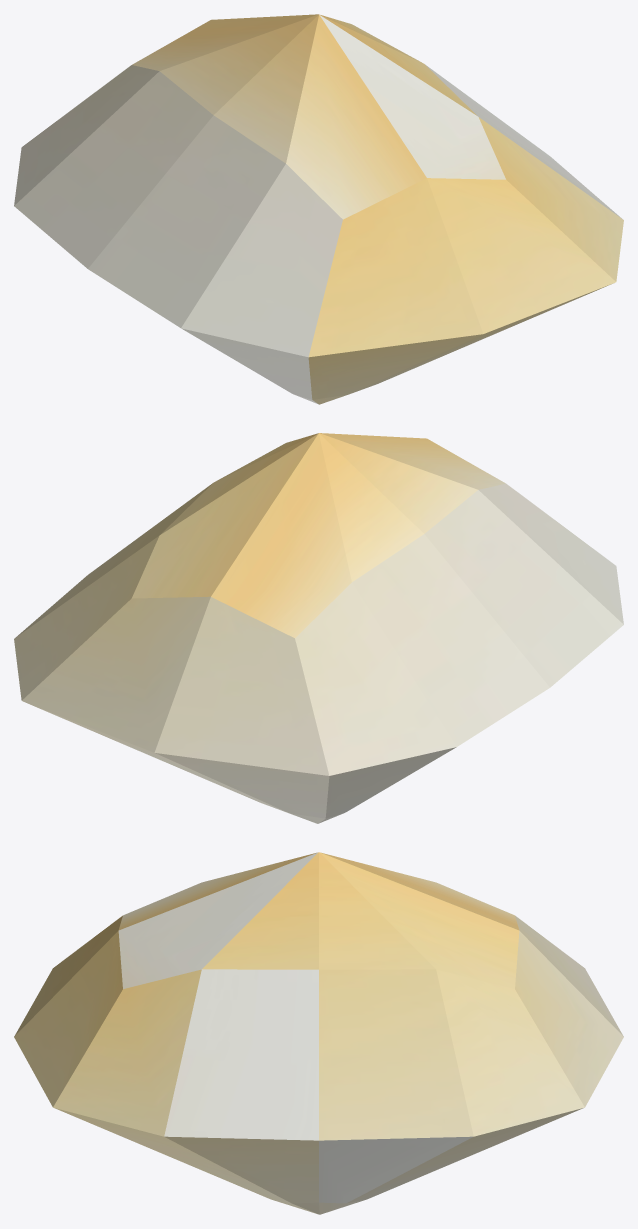
File: smallYellowCrystal2.fbx
3 views of the same model, one above another, from view 1: azimuth 30°, elevation 25°; view 2: azimuth 150°, elevation 25°; view 3: azimuth 270°, elevation 25° (orthographic). The views are drawn at different scales.
Visible parts, largest first — view 1: small yellow crystal 2; view 2: small yellow crystal 2; view 3: small yellow crystal 2.
Boxes of the visible parts, x1,y1,x2,y2 form: small yellow crystal 2: (14, 14, 623, 404); small yellow crystal 2: (14, 433, 623, 823); small yellow crystal 2: (14, 852, 623, 1214).
Size of the model in its own units: 94.79 by 76.47 by 117.
1 material, 1 textured.
